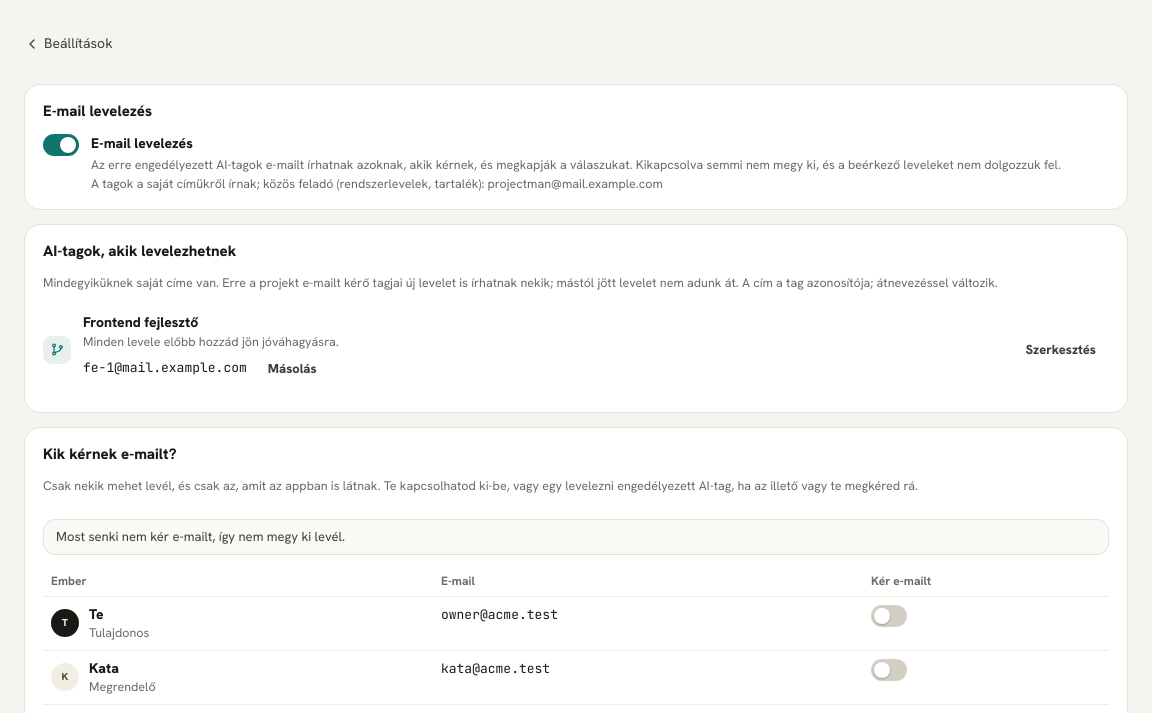
Test: the e-mail settings section › the address of a member (PM-989) › shows the address and copies it
Check: the text "fe-1@mail.example.com" is shown, box [83,359,247,377]
What coordinates should you click on to do the following:
click the button with aria-label "címének másolása"
I would click on:
 (292, 368)
Its box is [255,350,330,386].
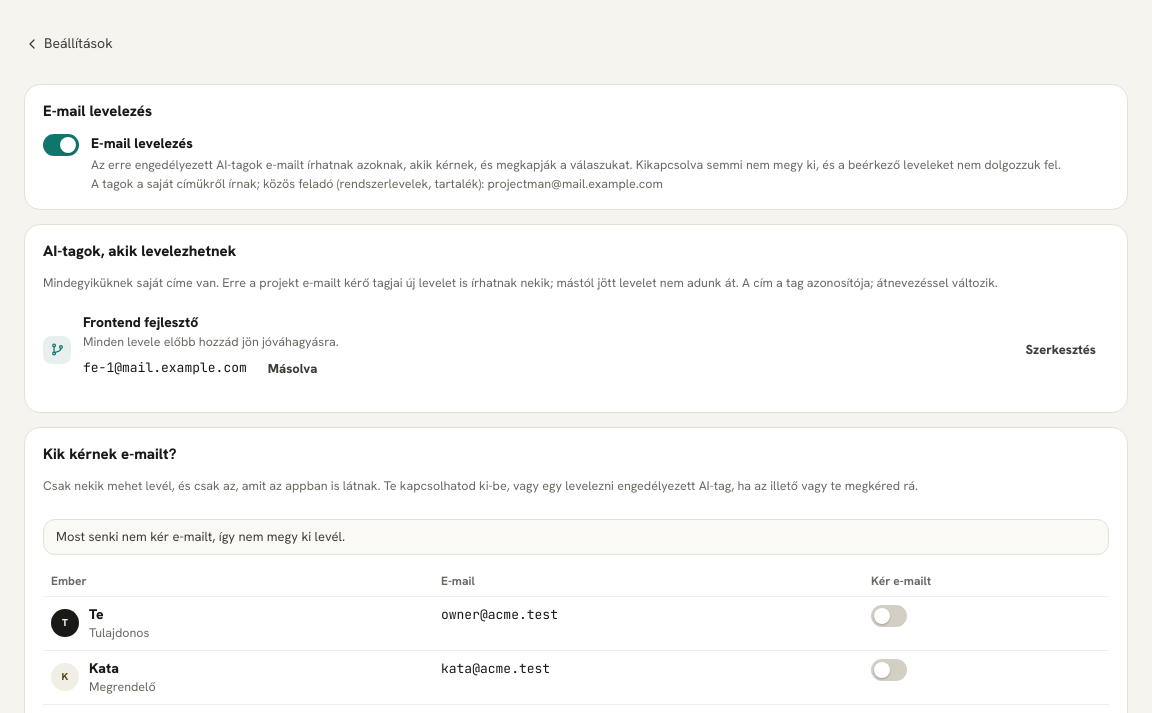
Check: the text "Másolva" is shown, box [268,362,317,375]
